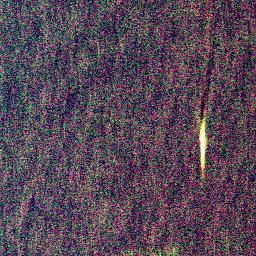Ship: (199, 119, 207, 166)
